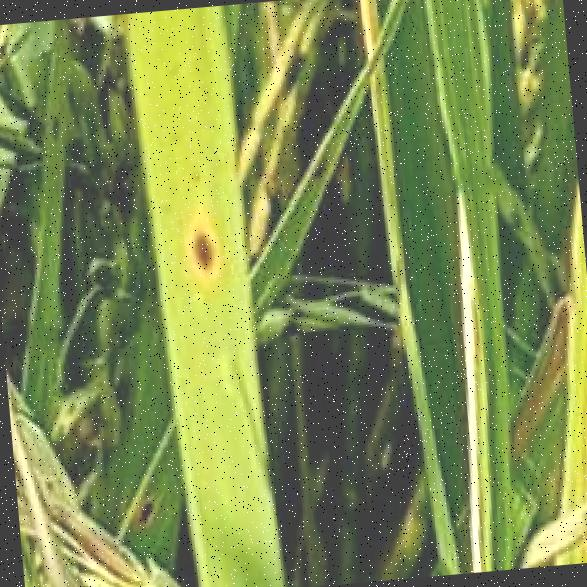Brown_Spot: (172, 197, 229, 288)
